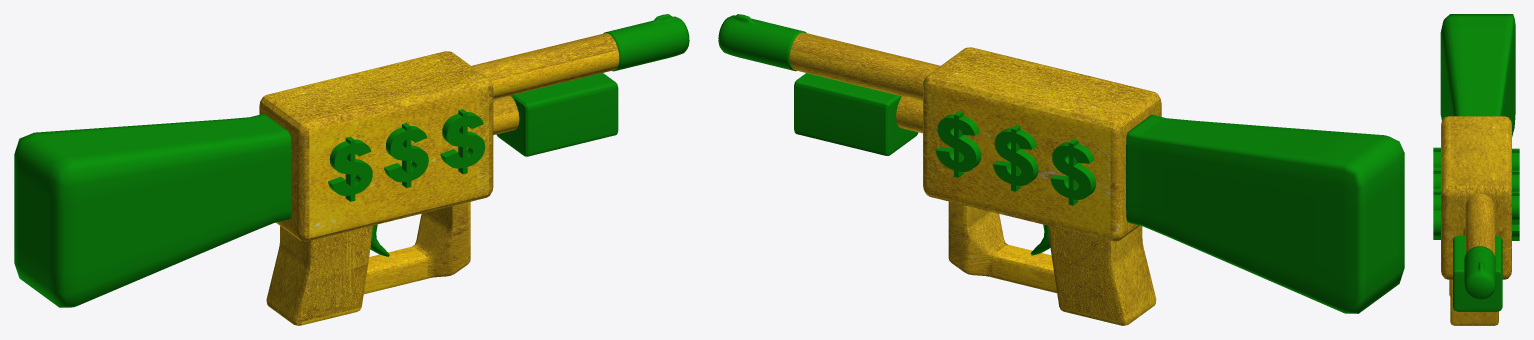
The model's file is kawaiine_gun.fbx.
3 renders of one model, left to right at view 1: azimuth 30°, elevation 25°; view 2: azimuth 150°, elevation 25°; view 3: azimuth 270°, elevation 25°, orthographic. The views are drawn at different scales.
Parts seen in each view (by area): view 1: pCube8, pCube7, pCube9, pCube6, typeMesh5, pCube11, pCylinder7, pCylinder8, pCylinder6; view 2: pCube8, pCube7, pCube9, pCube6, typeMesh6, pCube11, pCylinder7, pCylinder8, pCylinder6; view 3: pCube7, pCube8, pCube6, pCylinder7, pCylinder8, pCube11, typeMesh5, typeMesh6.
Part boxes in pixels (box(x1,y1,x2,y2)): pCube8: box(14, 114, 291, 307); pCube7: box(259, 51, 493, 241); pCube9: box(266, 225, 372, 325); pCube6: box(496, 73, 618, 156); typeMesh5: box(328, 109, 485, 201); pCube11: box(364, 202, 470, 294); pCylinder7: box(471, 33, 619, 99); pCylinder8: box(603, 14, 689, 71); pCylinder6: box(493, 95, 519, 134); pCube8: box(1126, 114, 1404, 313); pCube7: box(923, 47, 1161, 241); pCube9: box(1048, 225, 1156, 325); pCube6: box(794, 73, 918, 155); typeMesh6: box(935, 111, 1095, 205); pCube11: box(948, 201, 1056, 293); pCylinder7: box(789, 32, 940, 101); pCylinder8: box(718, 14, 806, 71); pCylinder6: box(896, 96, 922, 133); pCube7: box(1441, 116, 1511, 279); pCube8: box(1440, 14, 1515, 136); pCube6: box(1453, 235, 1502, 311); pCylinder7: box(1465, 193, 1494, 295); pCylinder8: box(1464, 246, 1495, 299); pCube11: box(1450, 279, 1498, 325); typeMesh5: box(1433, 147, 1440, 239); typeMesh6: box(1512, 148, 1519, 240).
Bounding box in the file's own units: 139 × 45.37 × 20.42.
Materials: 2 (2 with a texture image).
